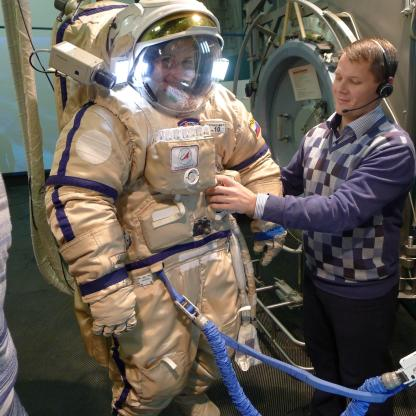Helmet: (94, 11, 230, 113)
